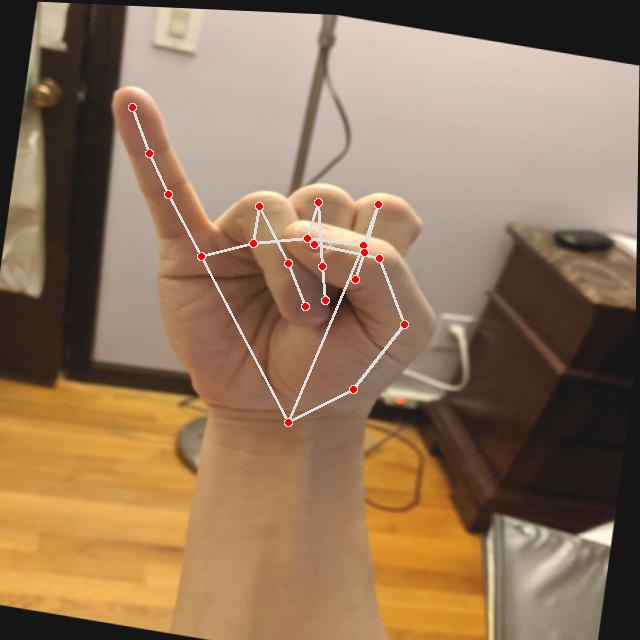I: (62, 71, 476, 452)
